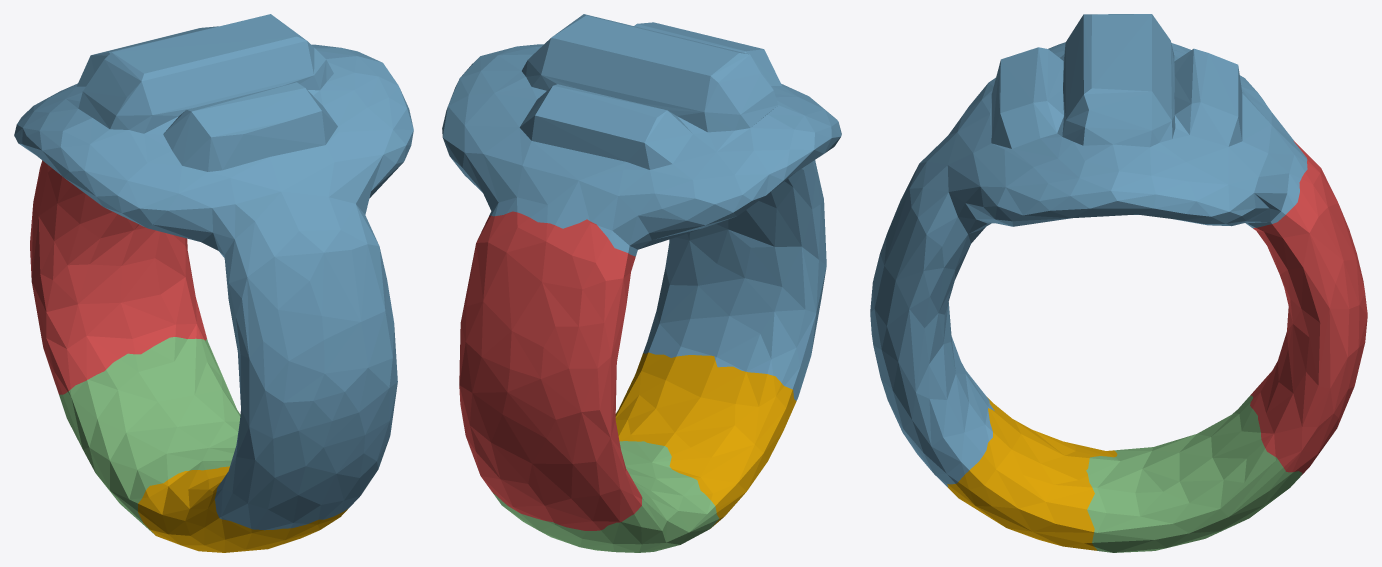
Rendered from fractured_19_4pcs.glb.
3 views of the same model, side by side, from view 1: azimuth 30°, elevation 25°; view 2: azimuth 150°, elevation 25°; view 3: azimuth 270°, elevation 25° (orthographic).
Visible parts, largest first — view 1: piece_2.obj, piece_1.obj, piece_3.obj, piece_0.obj; view 2: piece_2.obj, piece_1.obj, piece_0.obj, piece_3.obj; view 3: piece_2.obj, piece_1.obj, piece_3.obj, piece_0.obj.
Part boxes in pixels (x1=…): piece_2.obj: x1=14, y1=14, x2=413, y2=530; piece_1.obj: x1=30, y1=160, x2=206, y2=394; piece_3.obj: x1=59, y1=337, x2=240, y2=534; piece_0.obj: x1=138, y1=466, x2=348, y2=552; piece_2.obj: x1=442, y1=14, x2=841, y2=400; piece_1.obj: x1=459, y1=211, x2=642, y2=530; piece_0.obj: x1=615, y1=352, x2=796, y2=528; piece_3.obj: x1=492, y1=441, x2=719, y2=552; piece_2.obj: x1=870, y1=14, x2=1307, y2=486; piece_1.obj: x1=1250, y1=141, x2=1367, y2=474; piece_3.obj: x1=1086, y1=395, x2=1302, y2=552; piece_0.obj: x1=947, y1=397, x2=1117, y2=550.
Size of the model in its own units: 0.7357 by 1 by 0.9353.
